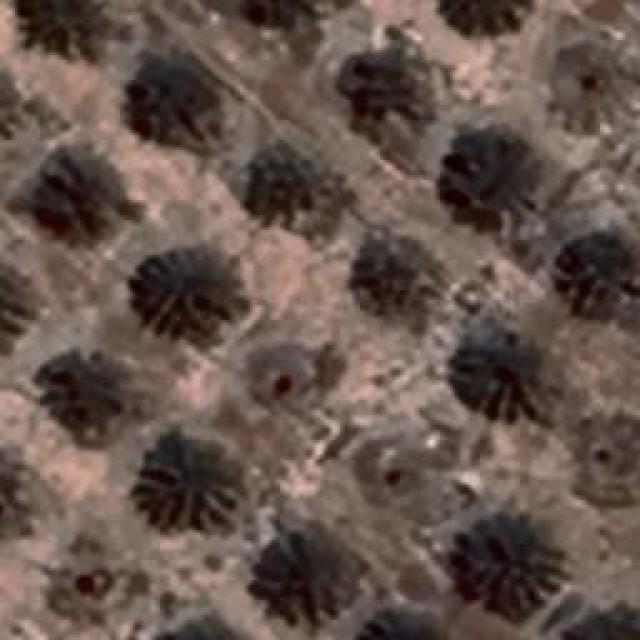PalmTree: (441, 508, 571, 620), (245, 516, 363, 626), (436, 122, 549, 228), (20, 142, 135, 242), (130, 432, 242, 532), (124, 48, 228, 152), (232, 136, 340, 234), (448, 322, 550, 420), (334, 38, 438, 134), (346, 228, 446, 324), (138, 250, 242, 340), (35, 348, 133, 442), (550, 228, 638, 318), (15, 0, 113, 60), (0, 256, 45, 346), (236, 0, 326, 45), (0, 438, 38, 542), (153, 605, 256, 640), (537, 605, 640, 640), (438, 0, 532, 38), (350, 605, 452, 640), (0, 57, 28, 158)
